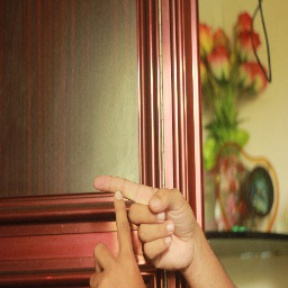T: (82, 170, 168, 283)
